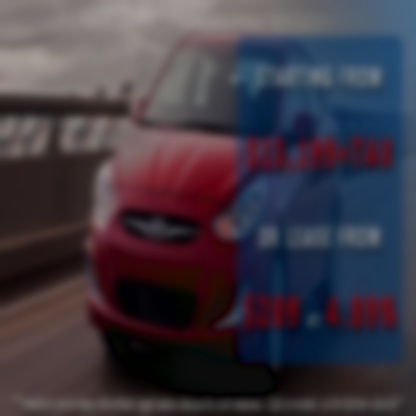Vehicle: (84, 30, 342, 391)
